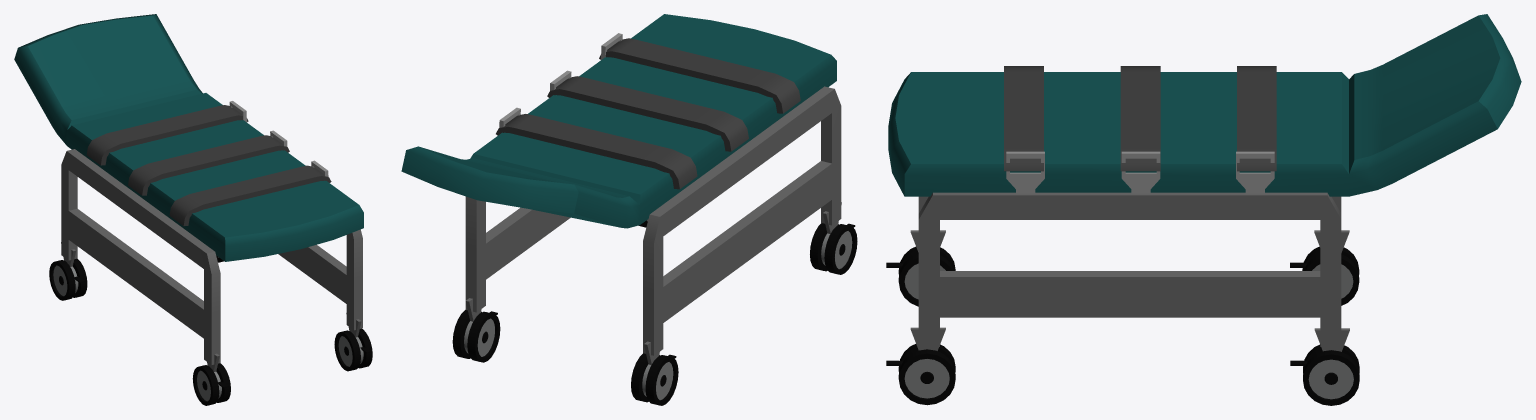
The model's file is bed_repar.fbx.
3 views of the same model, side by side, from view 1: azimuth 30°, elevation 25°; view 2: azimuth 150°, elevation 25°; view 3: azimuth 270°, elevation 25° (orthographic). The views are drawn at different scales.
Visible parts, largest first — view 1: pCube85, pCube95, pCube104, pCube106, pCube107, pCube105, pCylinder8, pCylinder7, pCylinder6; view 2: pCube85, pCube95, pCube104, pCube106, pCube105, pCube107, pCylinder9, pCylinder6, pCylinder7; view 3: pCube85, pCube104, pCube106, pCube105, pCube107, pCylinder8, pCylinder9, pCylinder7, pCylinder6, pCube109, pCube108, pCube110.
Part boxes in pixels (x1,y1,x2,y2): pCube85: [14, 14, 363, 261]; pCube95: [61, 149, 220, 364]; pCube104: [278, 229, 362, 330]; pCube106: [128, 135, 289, 195]; pCube107: [169, 165, 331, 225]; pCube105: [86, 105, 248, 165]; pCylinder8: [334, 328, 372, 371]; pCylinder7: [192, 363, 230, 405]; pCylinder6: [49, 258, 87, 300]; pCube85: [401, 14, 836, 228]; pCube95: [643, 86, 841, 355]; pCube104: [465, 196, 570, 312]; pCube106: [547, 76, 748, 151]; pCube105: [496, 114, 697, 189]; pCube107: [599, 38, 800, 113]; pCylinder9: [452, 310, 500, 362]; pCylinder6: [631, 353, 678, 405]; pCylinder7: [810, 223, 857, 274]; pCube85: [888, 14, 1521, 196]; pCube104: [918, 192, 1341, 346]; pCube106: [1120, 66, 1160, 171]; pCube105: [1237, 66, 1276, 171]; pCube107: [1004, 66, 1043, 171]; pCylinder8: [898, 344, 955, 405]; pCylinder9: [1303, 344, 1359, 405]; pCylinder7: [898, 246, 955, 306]; pCylinder6: [1302, 246, 1359, 305]; pCube109: [1121, 151, 1160, 193]; pCube108: [1236, 151, 1274, 193]; pCube110: [1006, 151, 1044, 193].
Bounding box in the file's own units: 0.3487 × 0.4346 × 0.8485.
